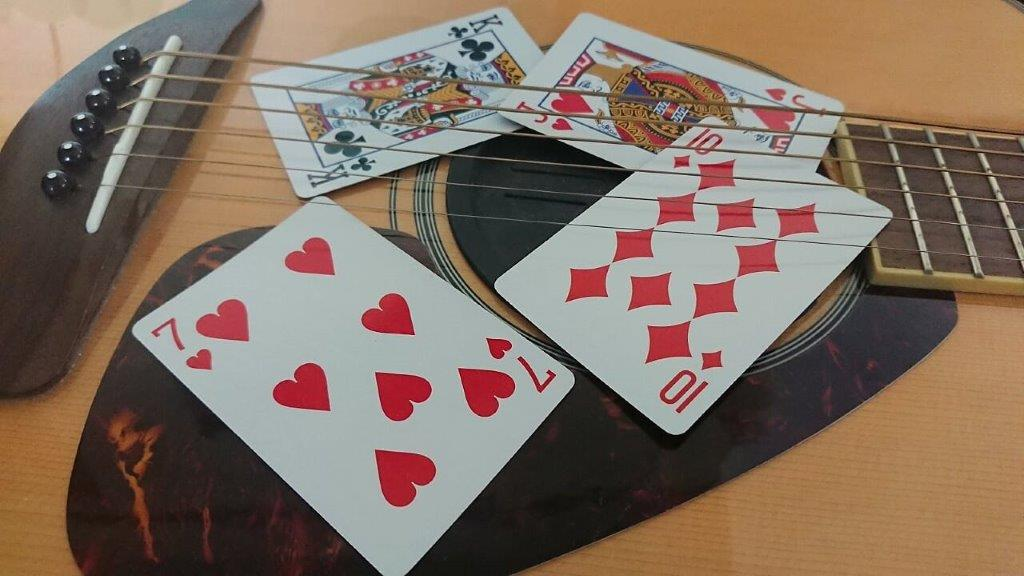10D: (492, 113, 895, 438)
7H: (130, 195, 577, 576)
JH: (497, 10, 848, 115)
KC: (247, 6, 498, 199)
